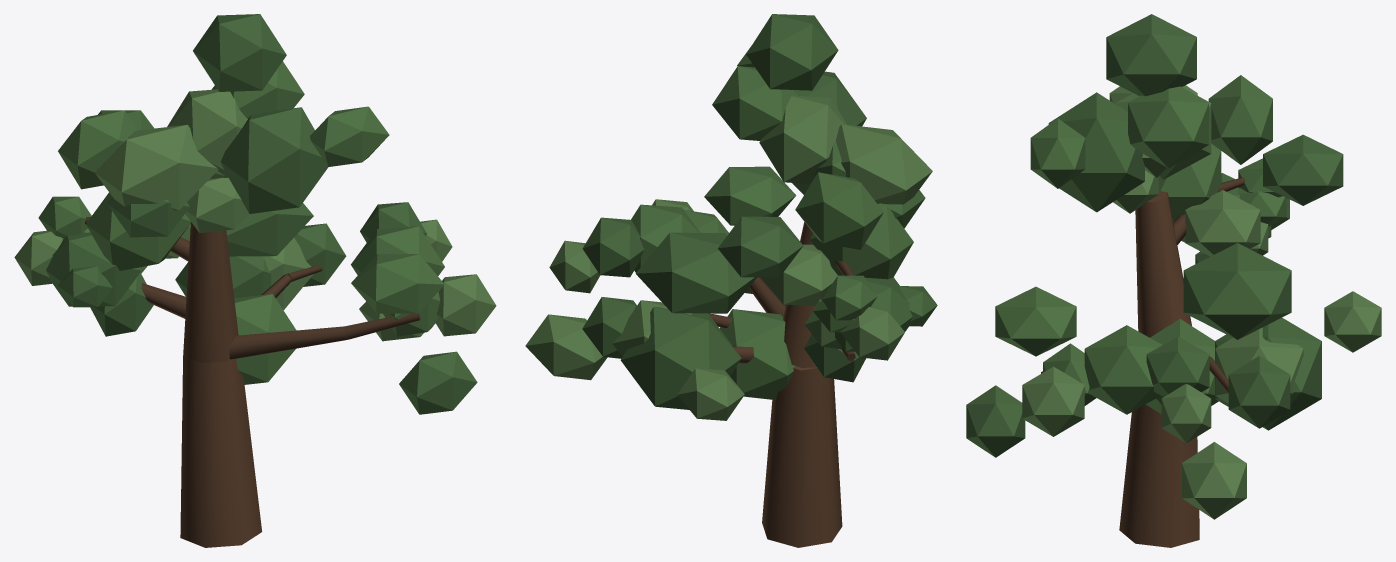
File: tree_oak_low.glb
3 views of the same model, side by side, from view 1: azimuth 30°, elevation 25°; view 2: azimuth 150°, elevation 25°; view 3: azimuth 270°, elevation 25° (orthographic). The views are drawn at different scales.
Bounding box in the file's own units: 5.81 × 7.27 × 5.3.
